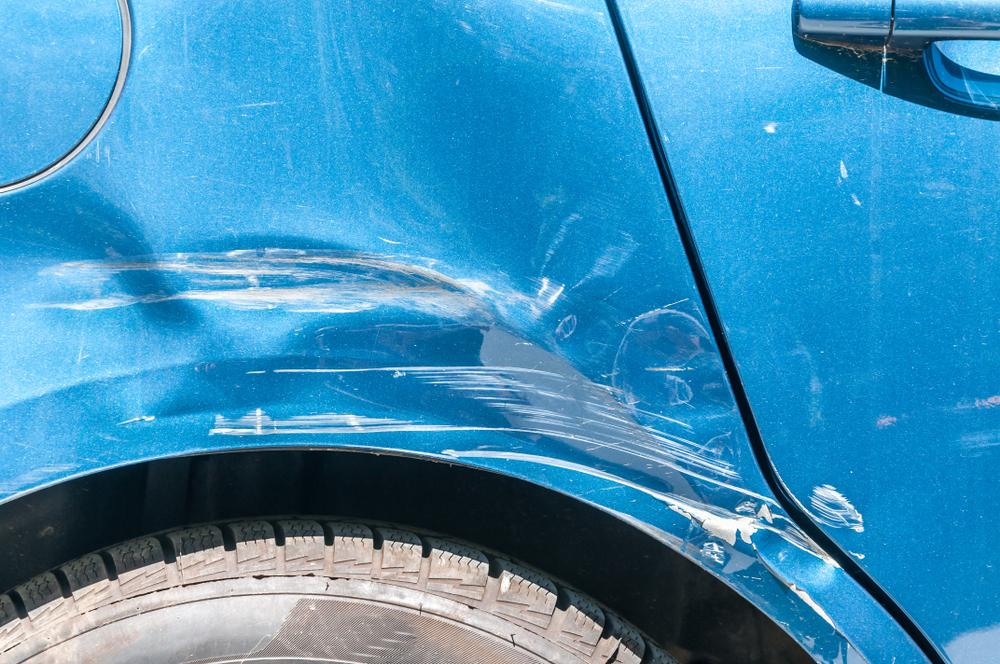dent: (0, 184, 819, 616)
scratch: (808, 482, 869, 554)
